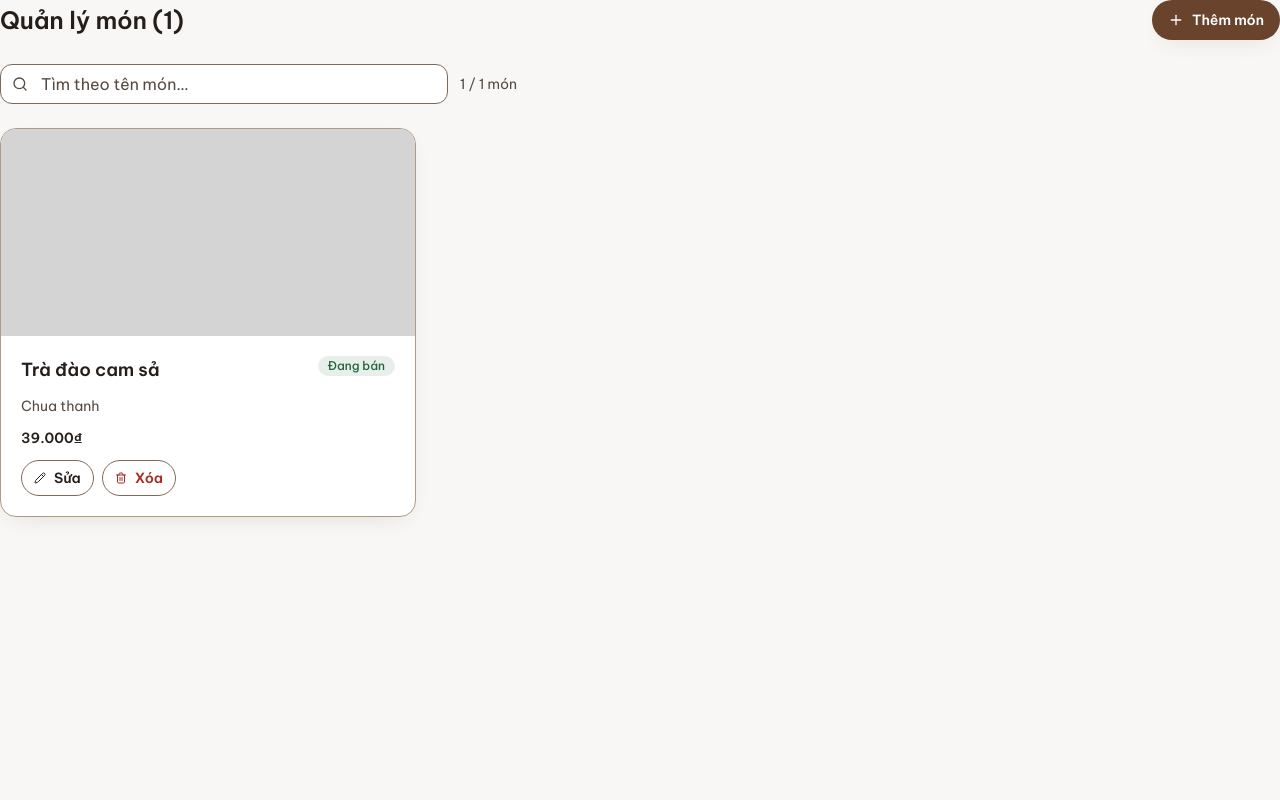
Test: AI tag suggestions in the product form › suggests tags, lets Admin pick them and saves only through the product update
The image size is (1280, 800).
Later steps or results of the test are not shown.
Click the button "Sửa": x=57, y=478 [21,460,94,496]
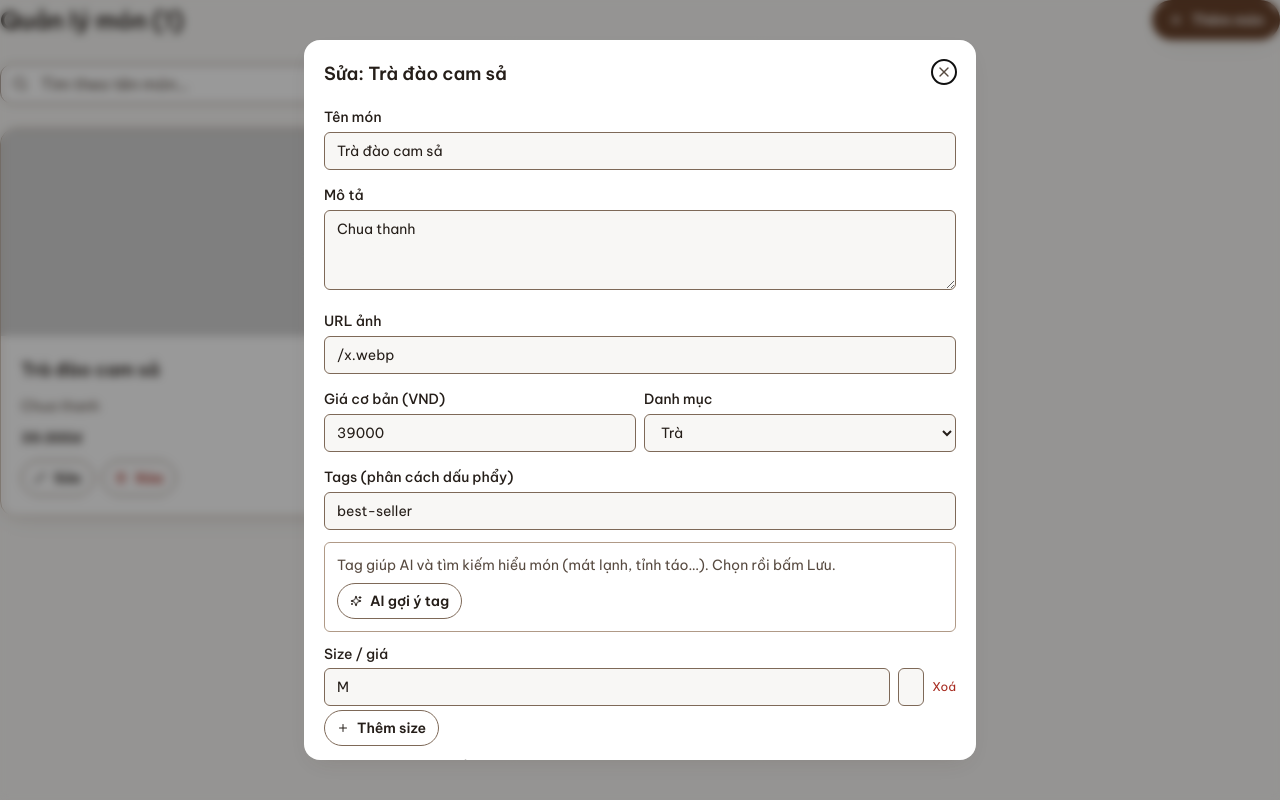
Click the button "AI gợi ý tag": x=400, y=601 [337,583,462,619]
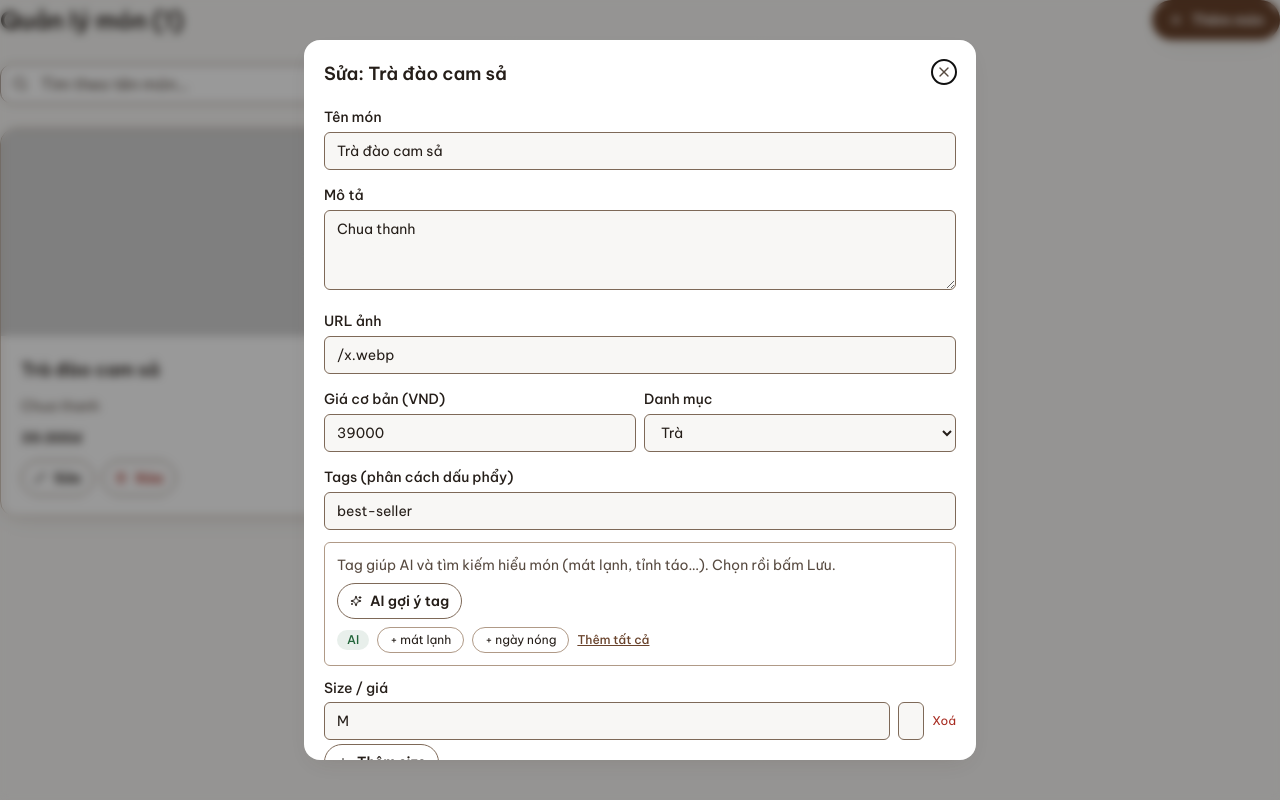
Click the button with aria-label "Thêm tag mát lạnh": x=421, y=640 [377,627,464,653]
(page scrolled)
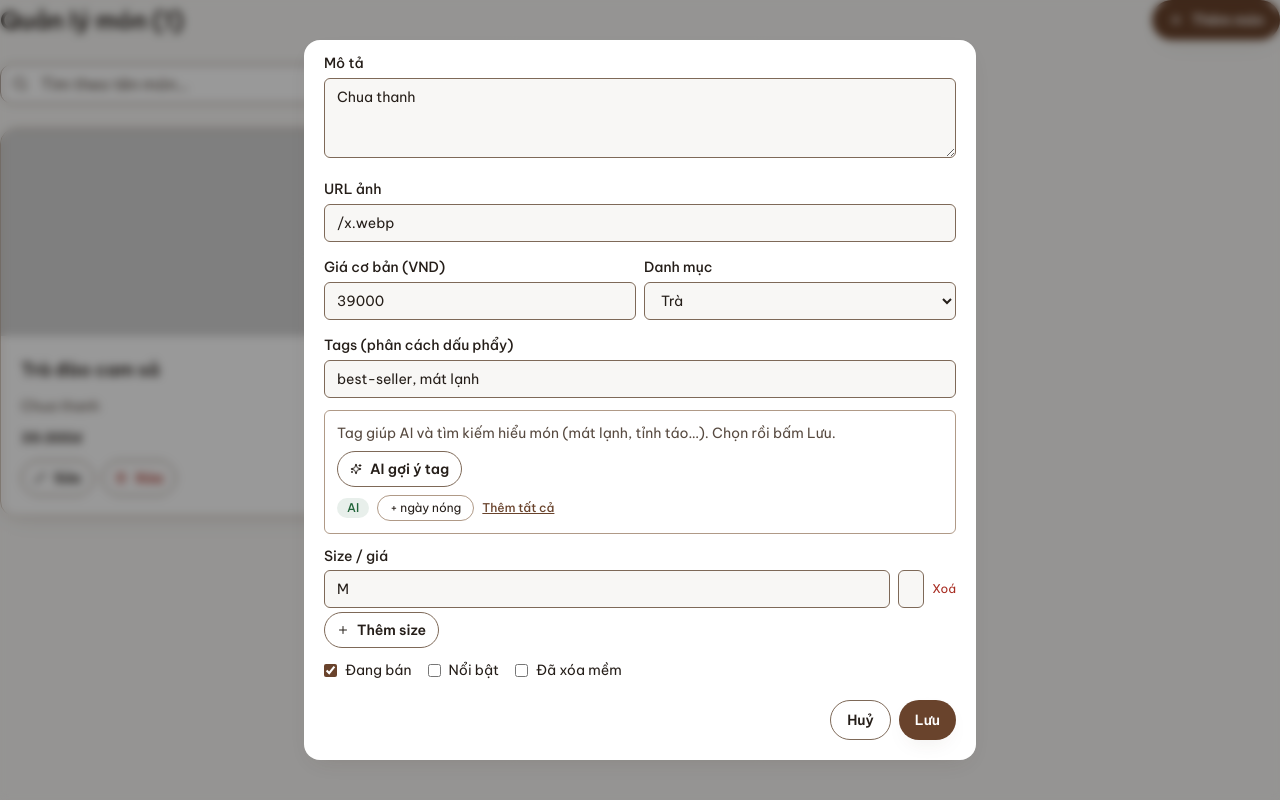
Expected: the field with placeholder "best-seller, signature" holds "best-seller, mát lạnh", [324,360,956,398]
